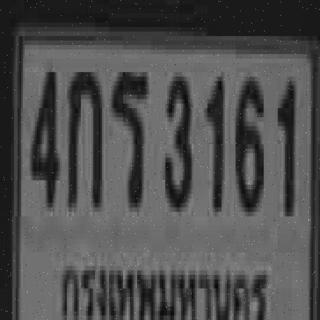A01: (67, 68, 100, 203)
A35: (111, 68, 146, 203)
N01: (276, 77, 294, 212), (205, 72, 222, 207)
N03: (162, 72, 190, 207)
N04: (29, 63, 57, 203)
N06: (234, 72, 262, 207)
P04: (59, 255, 268, 320)
